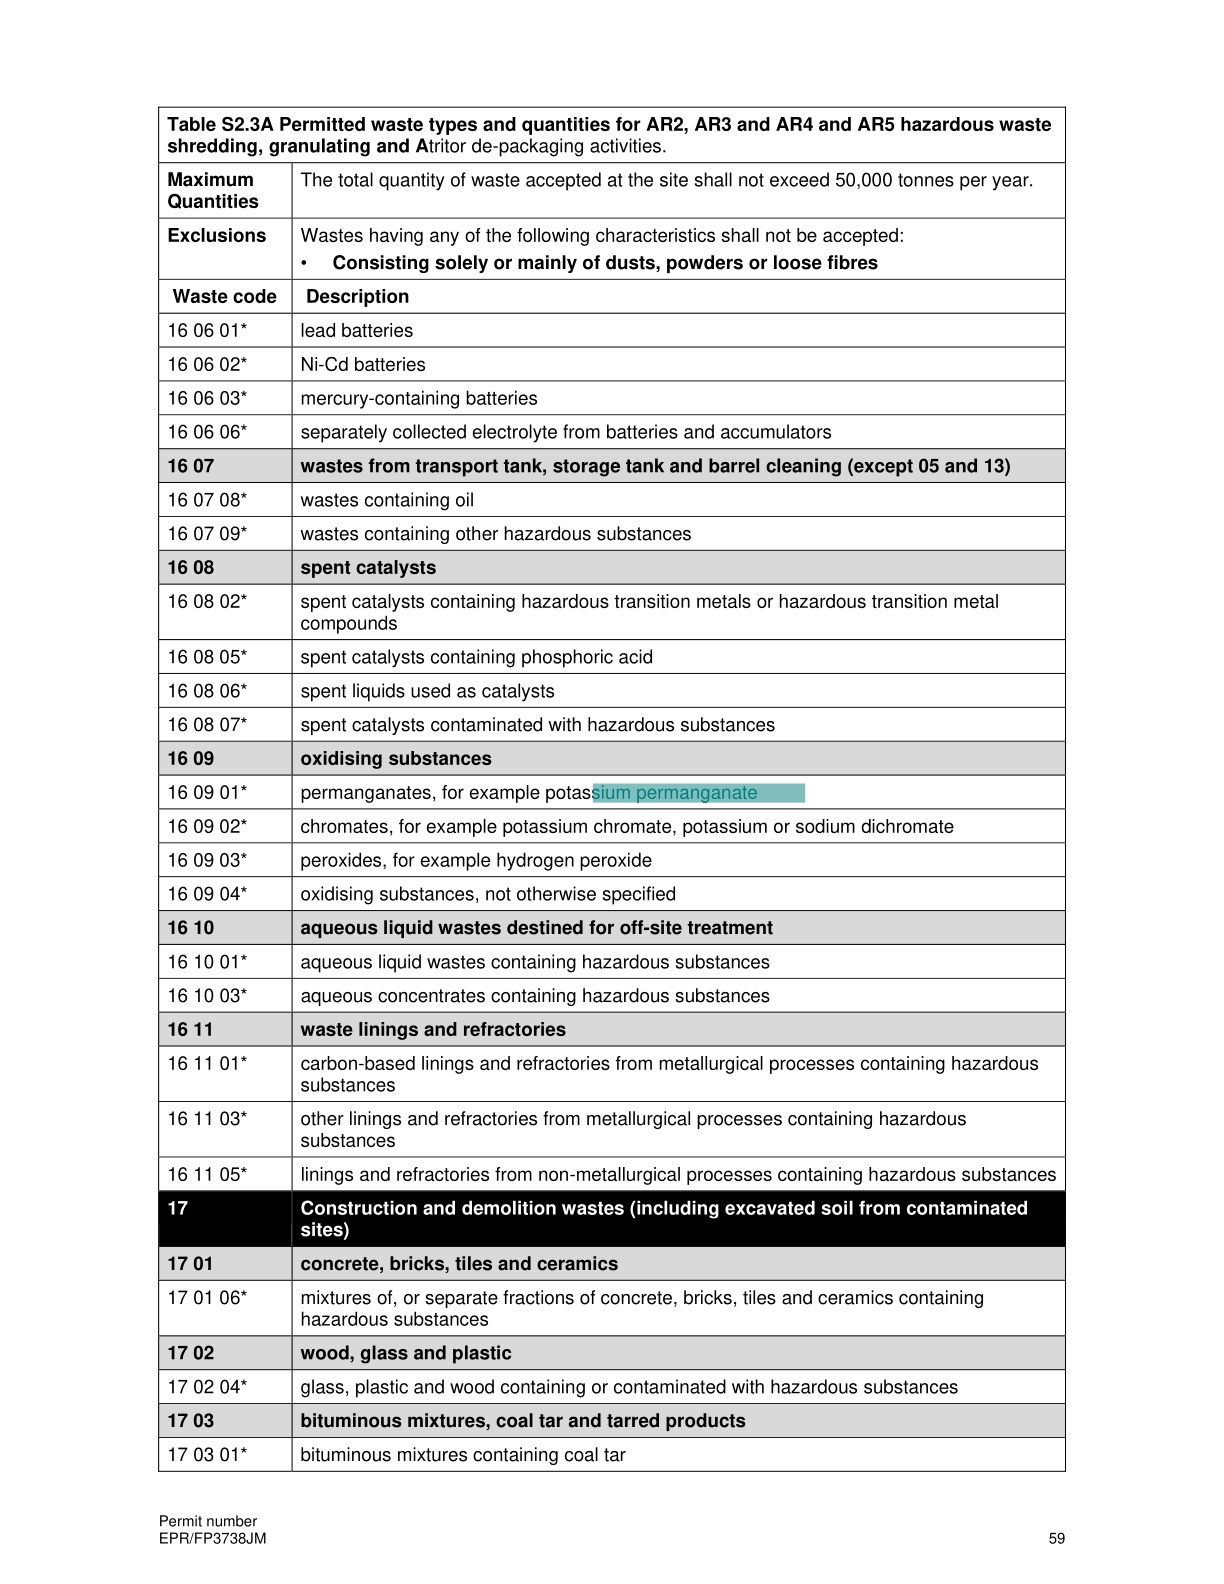merged_cells: (156, 105, 1066, 1473)
